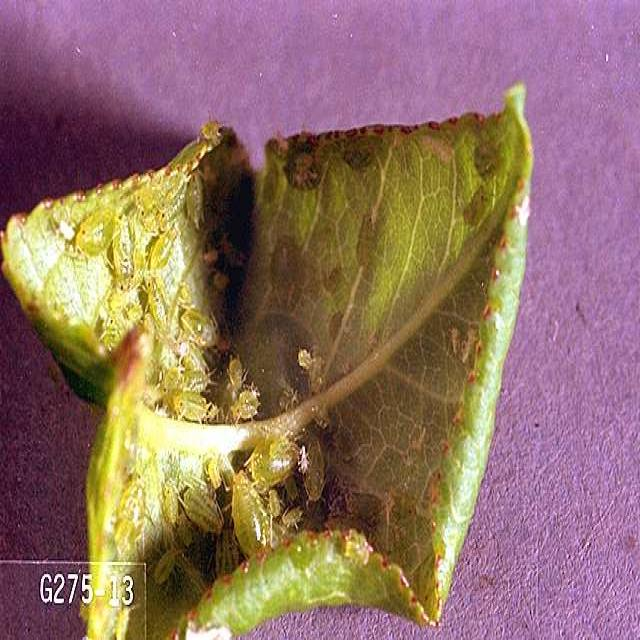aphid: (288, 404, 350, 518), (220, 466, 280, 564), (172, 294, 225, 358), (220, 348, 252, 401)
